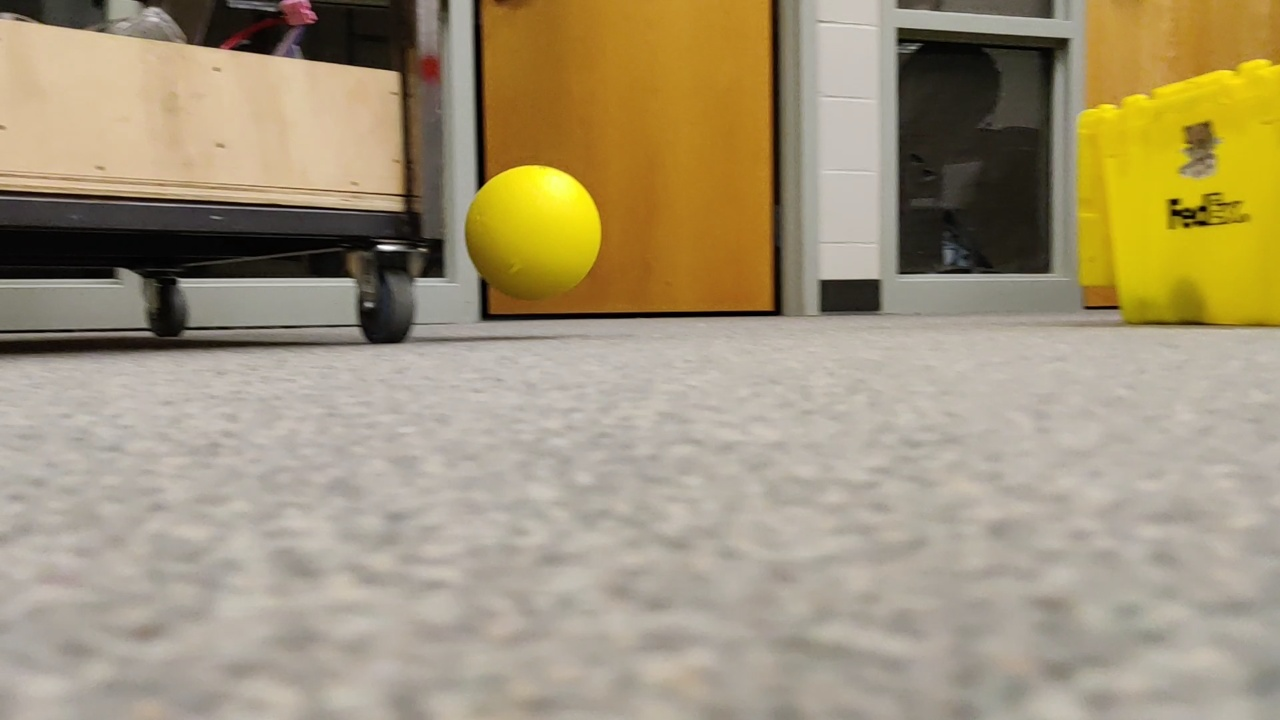Ball: (461, 163, 606, 315)
